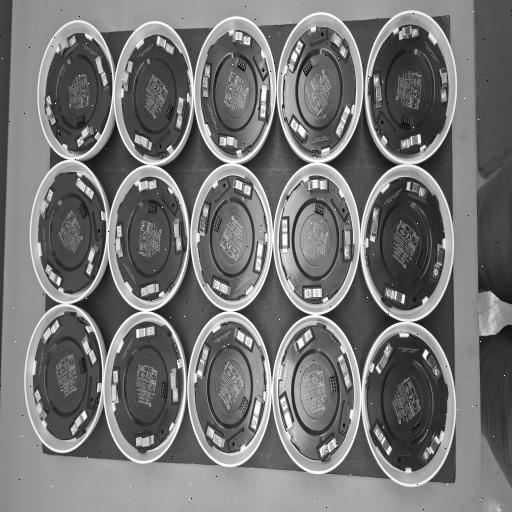yayli: (422, 346, 442, 384), (337, 352, 353, 392), (286, 39, 304, 74), (421, 432, 441, 463), (317, 432, 339, 460), (279, 391, 294, 432), (374, 422, 392, 456), (248, 396, 264, 434), (375, 341, 394, 373), (293, 325, 315, 352), (205, 422, 226, 449), (336, 105, 352, 140), (289, 115, 308, 144), (196, 344, 211, 380), (329, 30, 347, 60), (234, 325, 254, 351), (70, 409, 88, 437), (82, 333, 98, 364), (432, 244, 445, 282), (253, 238, 266, 275), (95, 56, 109, 90), (76, 176, 94, 202), (42, 318, 60, 343), (40, 189, 54, 221), (34, 388, 48, 420), (85, 244, 99, 276), (406, 180, 428, 200), (76, 124, 94, 148), (45, 264, 62, 289), (232, 177, 252, 198), (198, 202, 210, 236), (258, 84, 269, 121), (385, 286, 405, 306), (122, 60, 134, 93), (369, 207, 380, 243), (400, 134, 422, 152), (156, 36, 174, 56), (212, 276, 230, 296), (372, 72, 382, 108), (59, 35, 76, 56), (45, 95, 56, 127), (174, 96, 184, 130), (134, 133, 152, 151), (398, 26, 418, 42), (218, 134, 238, 150), (308, 177, 329, 192), (439, 69, 448, 104), (202, 64, 211, 98), (170, 368, 179, 402), (302, 286, 322, 301), (112, 368, 120, 405), (140, 283, 159, 298), (233, 32, 250, 48), (116, 224, 124, 258), (281, 218, 289, 252), (136, 325, 155, 339), (174, 218, 182, 251), (344, 227, 352, 260), (138, 178, 156, 192), (135, 435, 153, 449)
